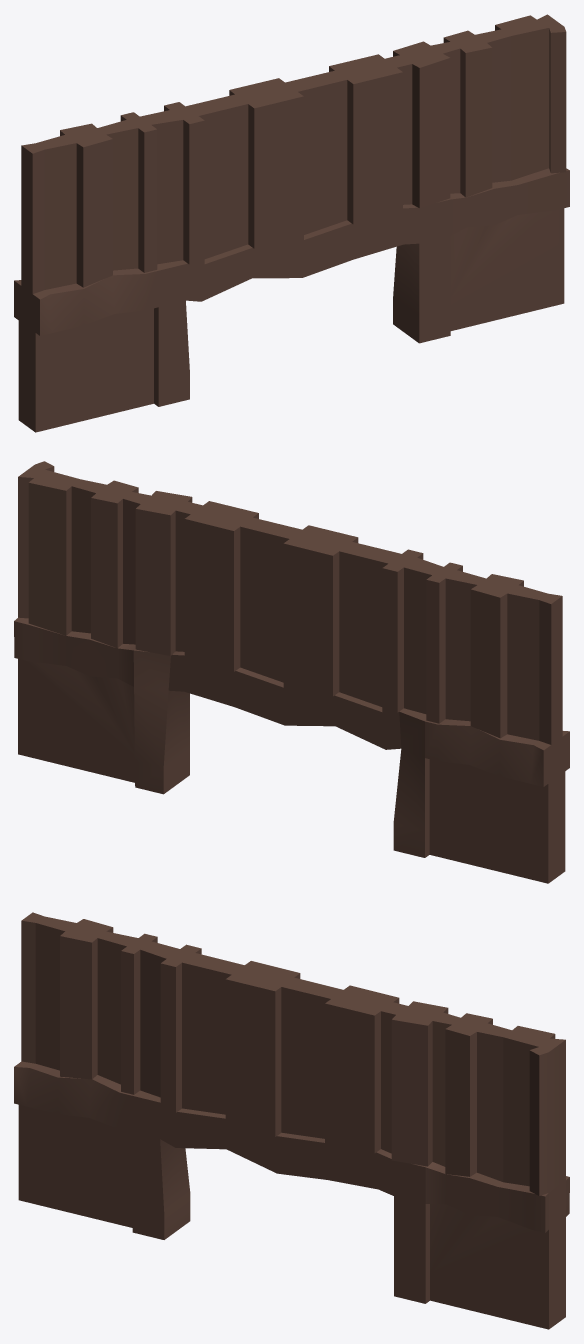
Rendered from Wood Door Top.fbx.
3 views of the same model, one above another, from view 1: azimuth 30°, elevation 25°; view 2: azimuth 150°, elevation 25°; view 3: azimuth 330°, elevation 25° (orthographic).
Parts seen in each view (by area): view 1: Wood_Door_Top; view 2: Wood_Door_Top; view 3: Wood_Door_Top.
Boxes of the visible parts, x1,y1,x2,y2 form: Wood_Door_Top: (14, 14, 569, 432); Wood_Door_Top: (14, 461, 569, 883); Wood_Door_Top: (14, 912, 569, 1329).
Bounding box in the file's own units: 2 × 1 × 0.1812.
